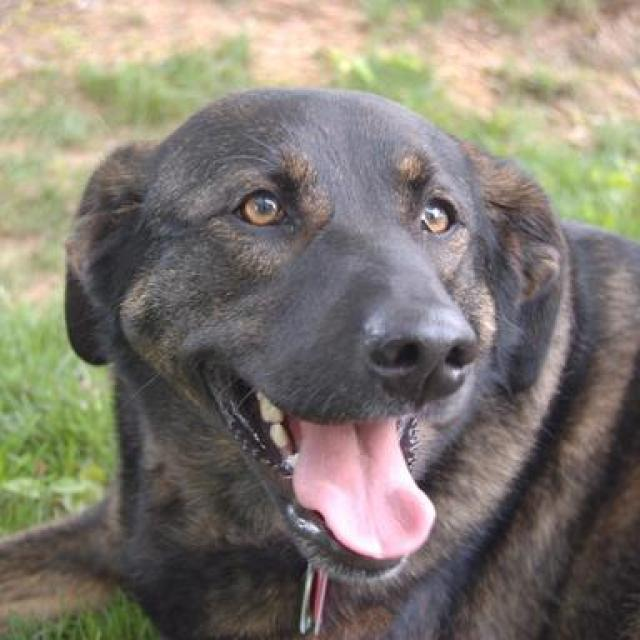adult_dog: (1, 82, 640, 640)
